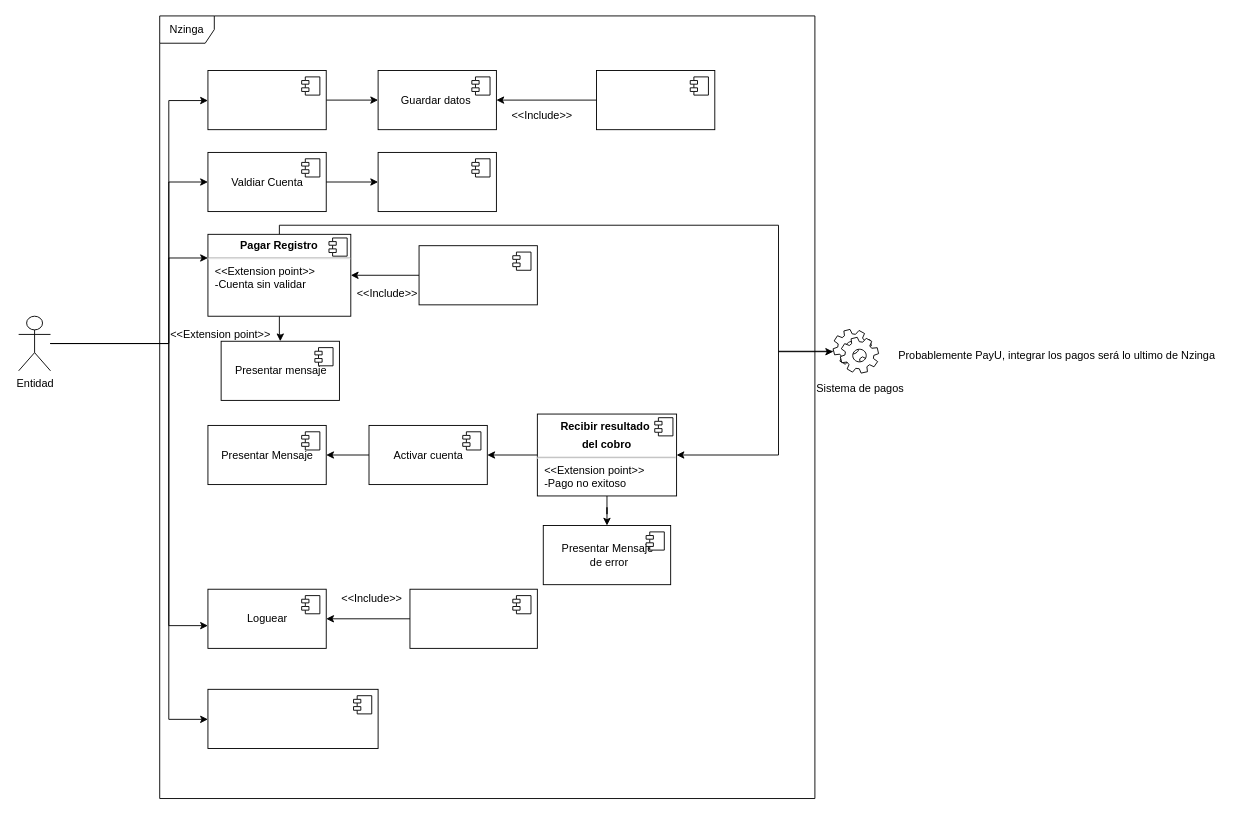
Some shapes in this 1239 by 814 pixel diagram are drawn without their labels. The centre of each missing label's shape, as x and y in pixels:
"Enviar Correo de Verificación" goes at (655,100).
"Guardar Validación" goes at (436,182).
"Registrar Cuenta" goes at (266,100).
"Seleccionar Tiempo Principal de trabajo (trimestre,semestre...)" goes at (292,718).
"Verificar Activación de cuenta" goes at (473,618).
"Verificar validación" goes at (477,275).
